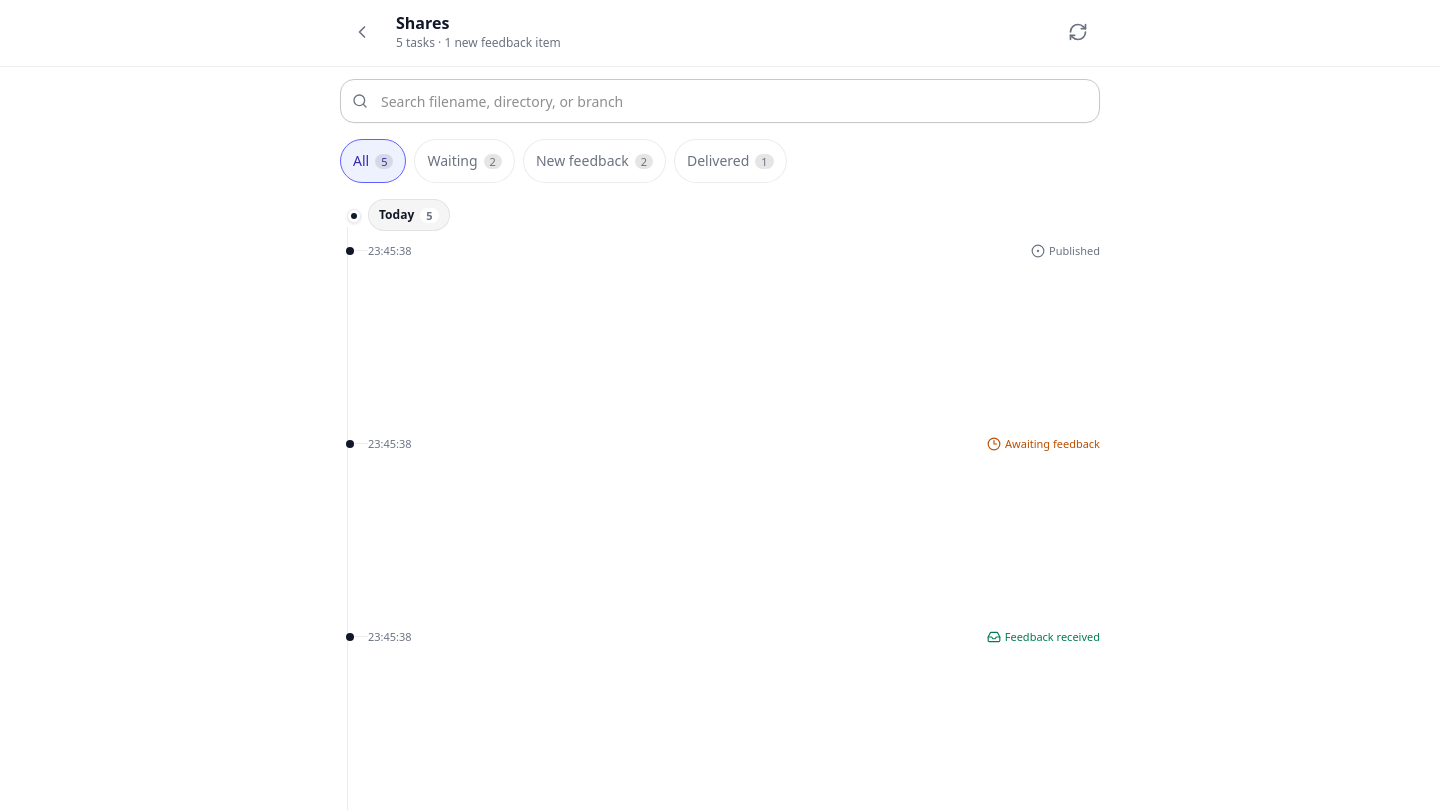
it: SharesPage › connects counted filters, search, timeline status, and empty results
Check: the text "5 tasks · 1 new feedback item" is shown, box [396, 34, 561, 51]
Check: the button named "New feedback 2 shares" is shown, box [523, 139, 666, 183]
Click the button named "Refresh shares".
click(1078, 32)  # box [1056, 10, 1100, 54]
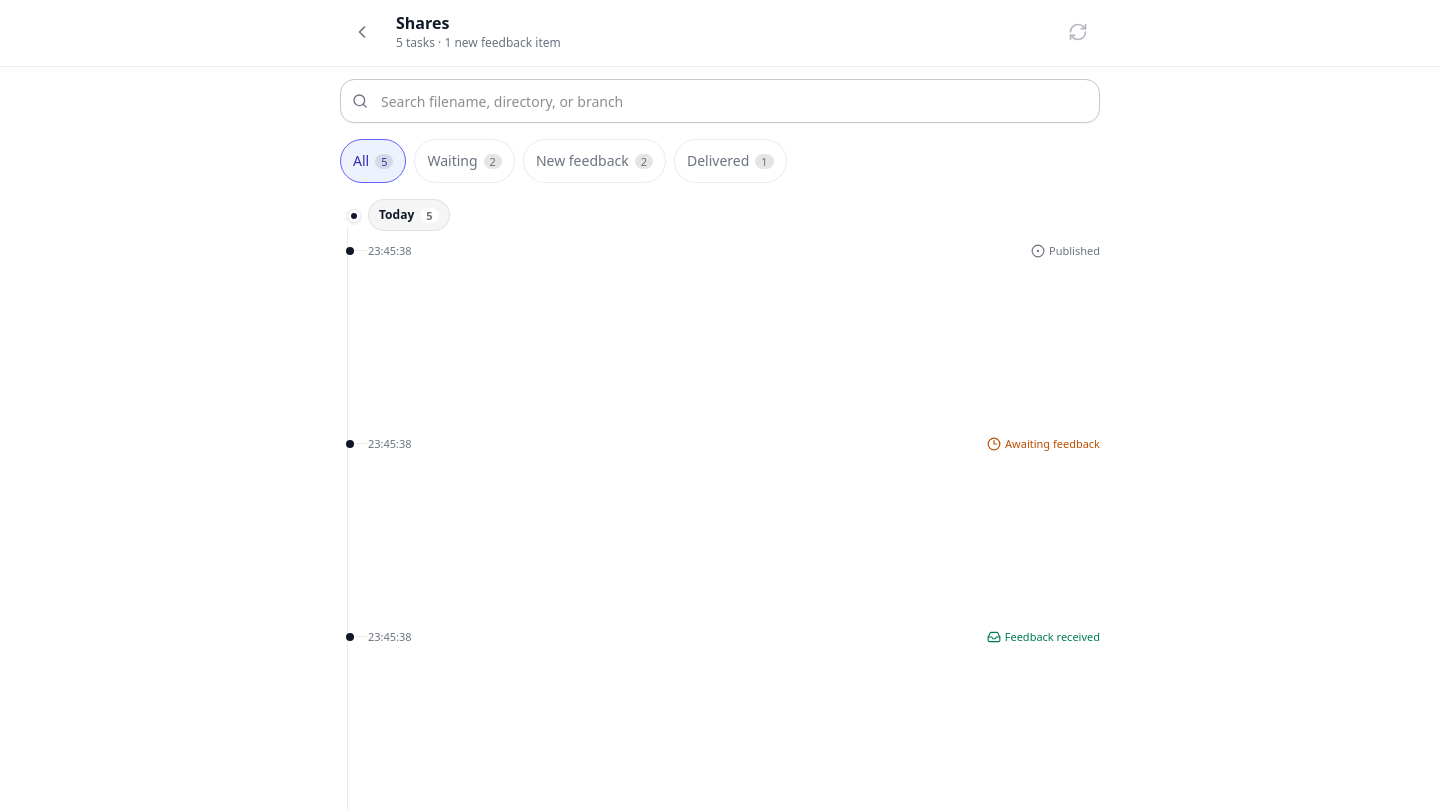
Click the button named "New feedback 2 shares".
click(594, 161)  # box [523, 139, 666, 183]
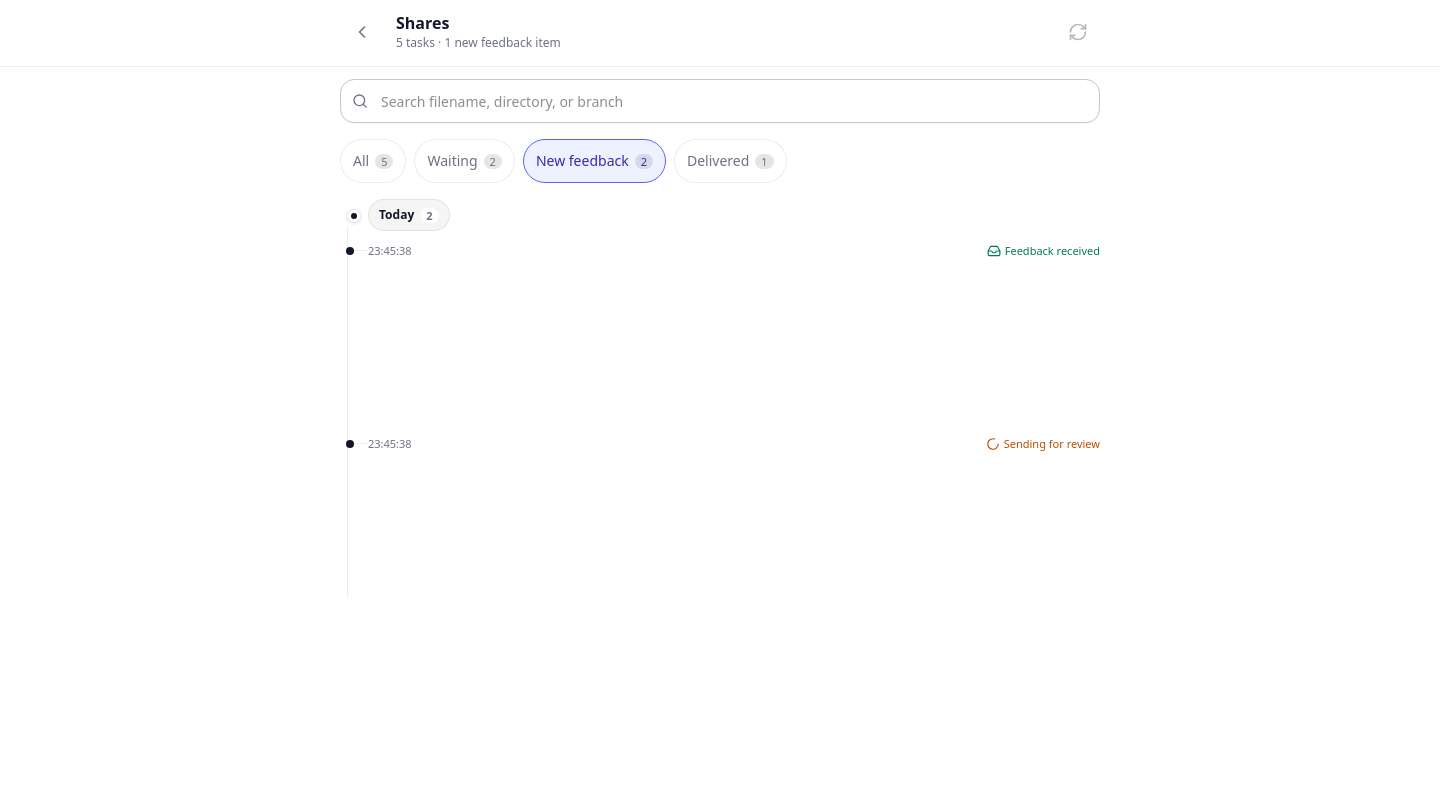
Click the button named "All 5 shares".
click(373, 161)  # box [340, 139, 406, 183]
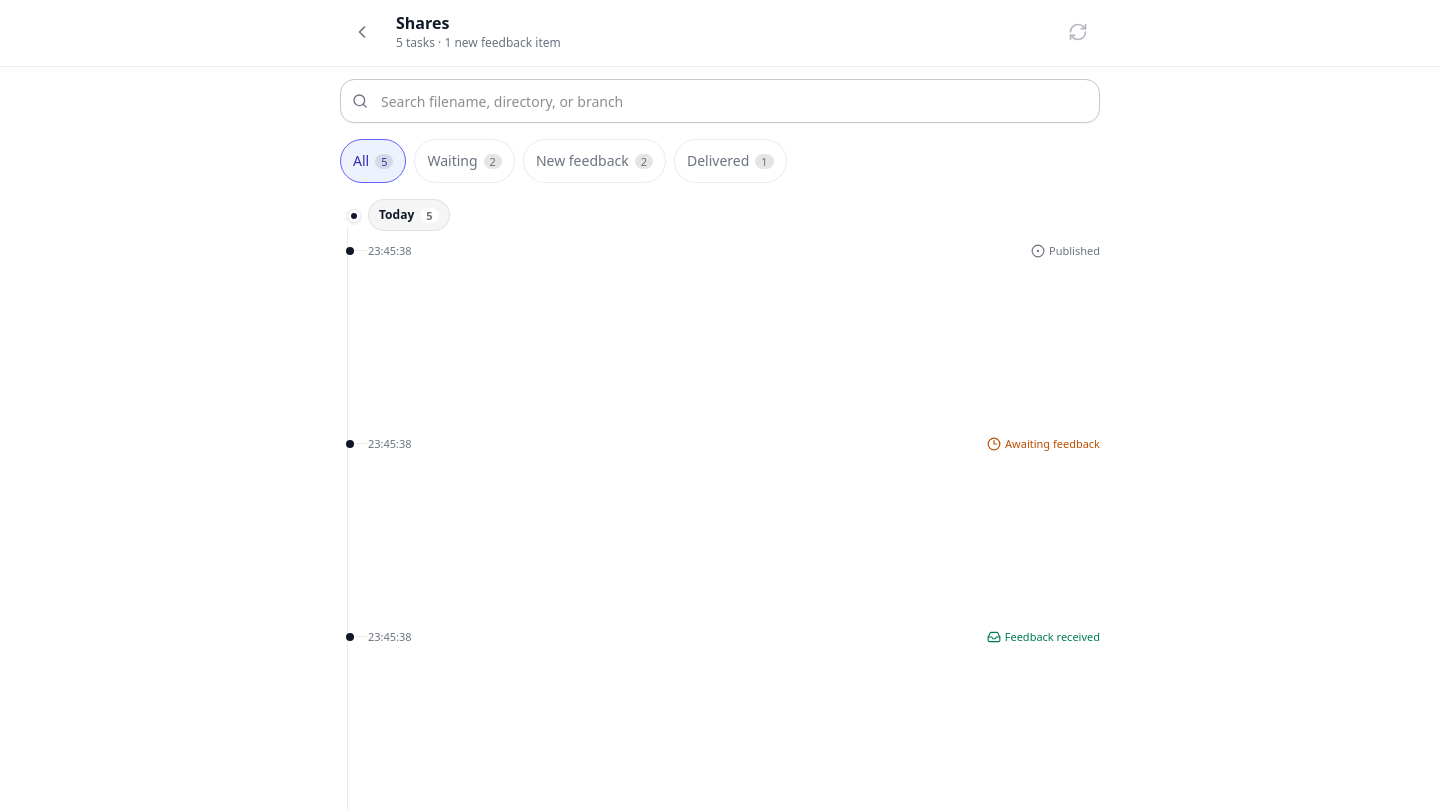
Type "sending-review" into the search field named "Search shares".
click(720, 101); type("sending-review")  # box [340, 79, 1100, 123]
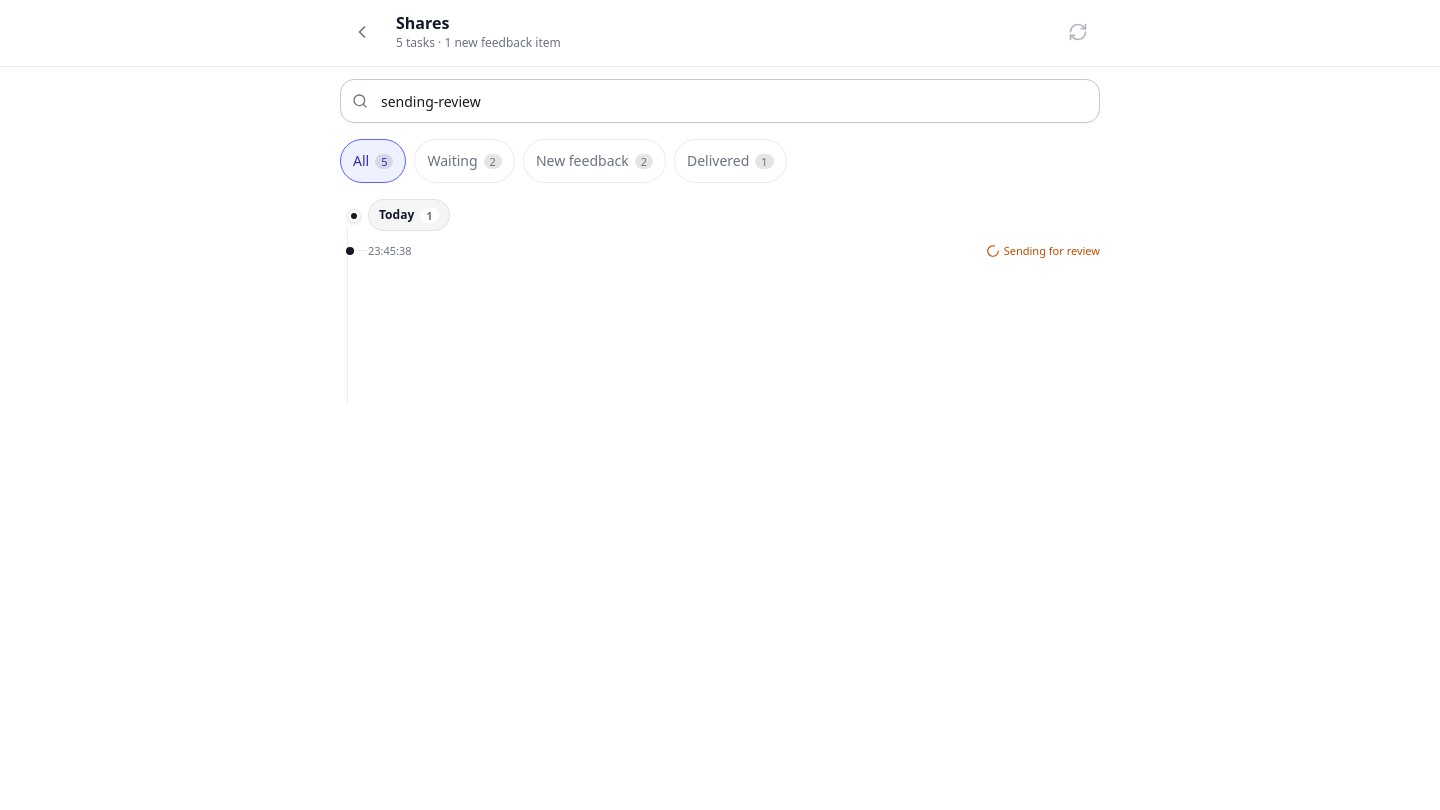
Replace the text in the search field named "Search shares" with "not-present" at (720, 101), box [340, 79, 1100, 123]
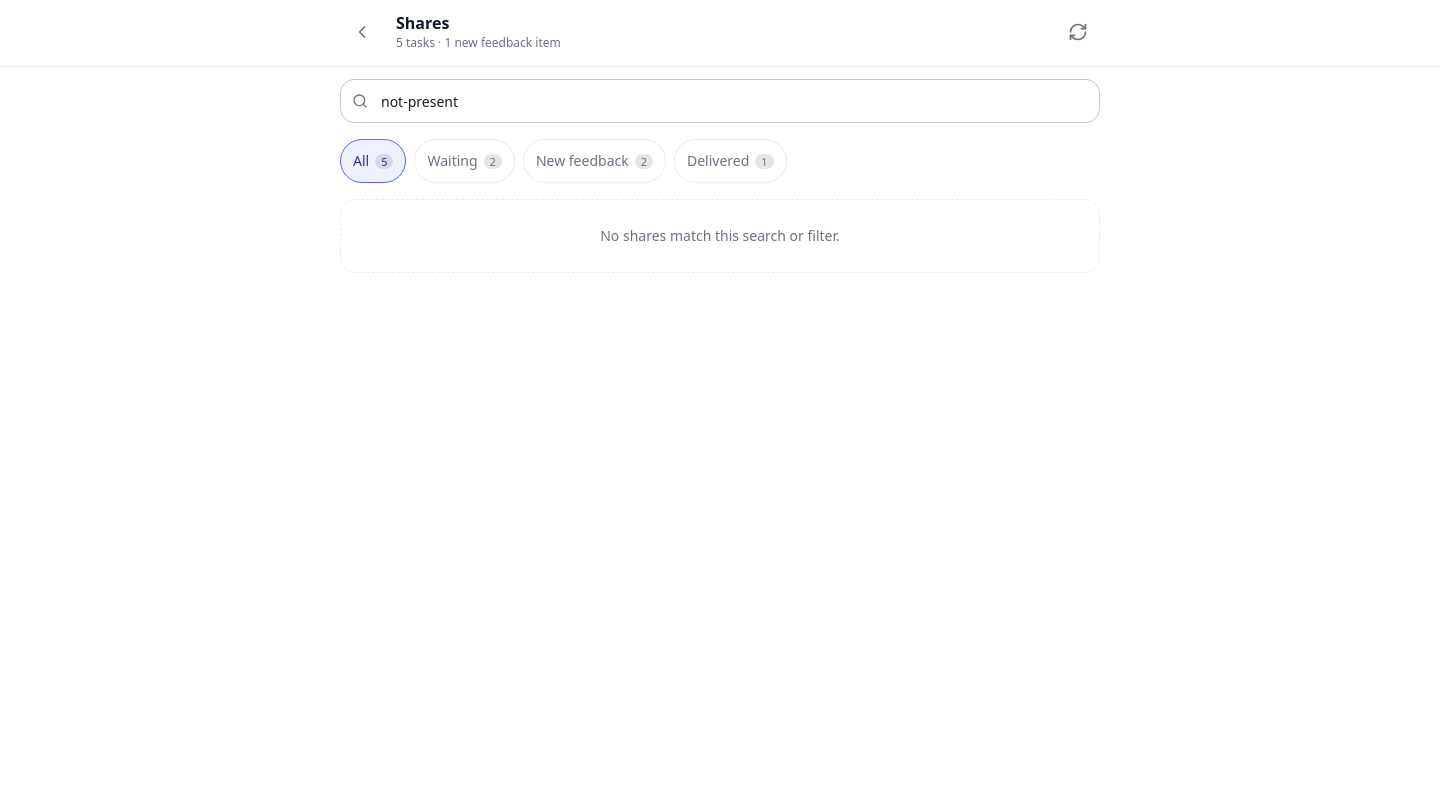
Check: the text "No shares match this search or filter." is shown, box [340, 199, 1100, 273]
